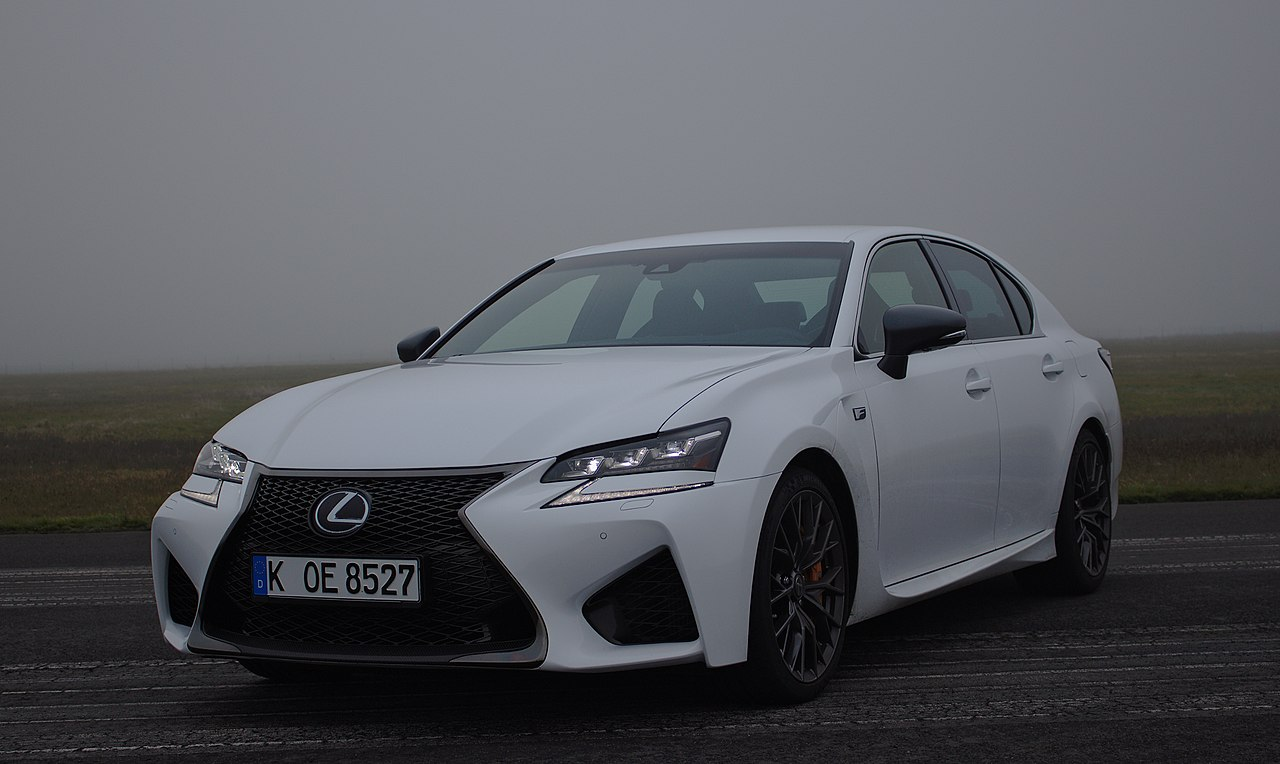plate: (252, 553, 422, 604)
